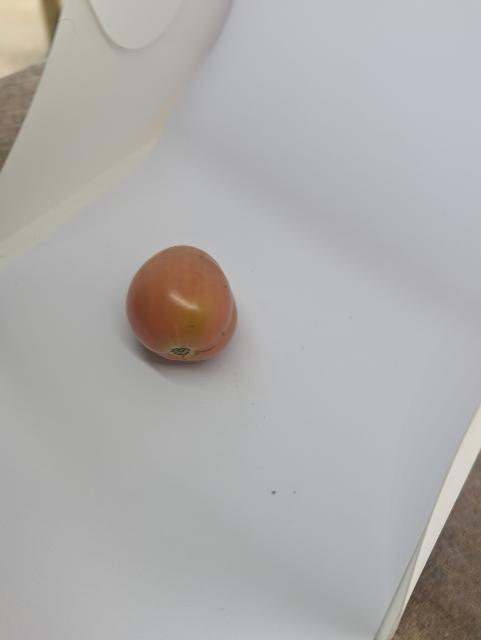turning: (111, 242, 249, 378)
